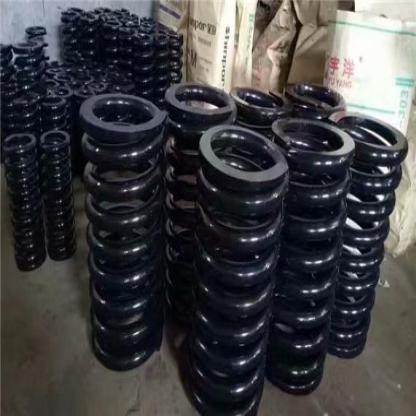FOD: (186, 118, 289, 415), (262, 110, 356, 400), (77, 88, 169, 379), (327, 110, 410, 362), (1, 128, 48, 272)
